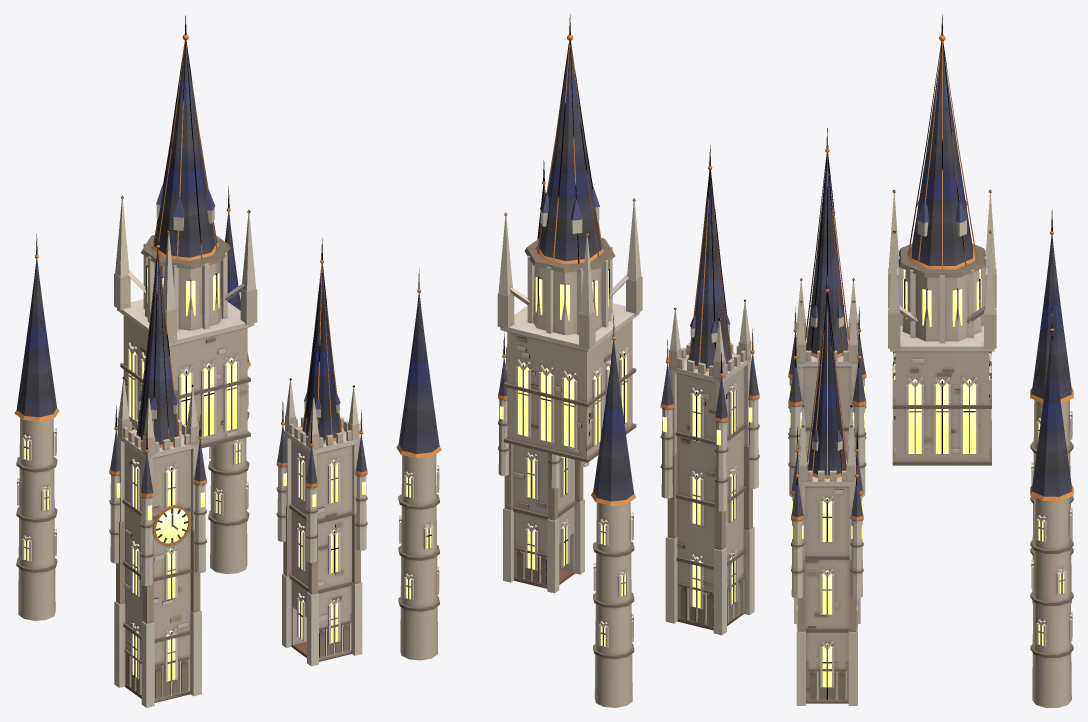
Rendered from gothic_towers.glb.
The picture shows the model from 3 angles, left to right: view 1: azimuth 30°, elevation 25°; view 2: azimuth 150°, elevation 25°; view 3: azimuth 270°, elevation 25°; orthographic projection. The views are drawn at different scales.
Visible parts, largest first — view 1: main, glow; view 2: main, glow; view 3: main, glow.
Boxes of the visible parts, bbox=[...] form: main: bbox=[14, 15, 367, 707]; glow: bbox=[18, 267, 365, 681]; main: bbox=[396, 14, 759, 707]; glow: bbox=[400, 270, 752, 646]; main: bbox=[788, 15, 1073, 707]; glow: bbox=[789, 269, 1071, 687].
Bounding box in the file's own units: 26.41 × 67.4 × 27.33.
3 materials, 1 textured.
